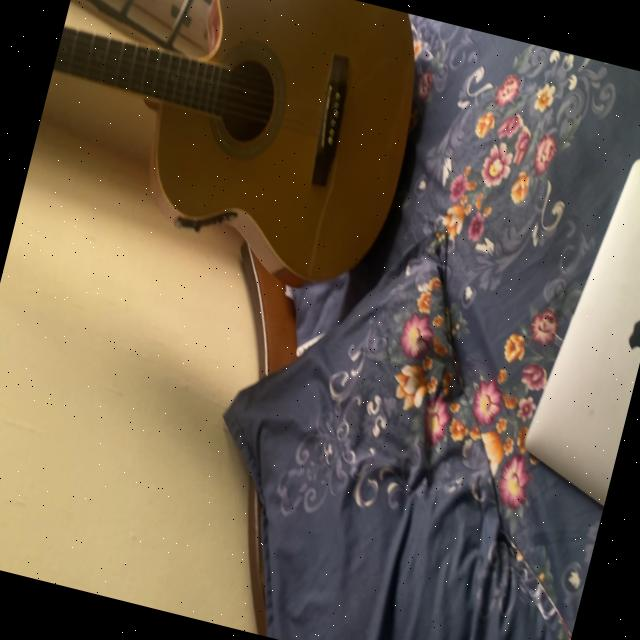guitar: (9, 0, 444, 333)
laptop: (500, 89, 640, 507)
